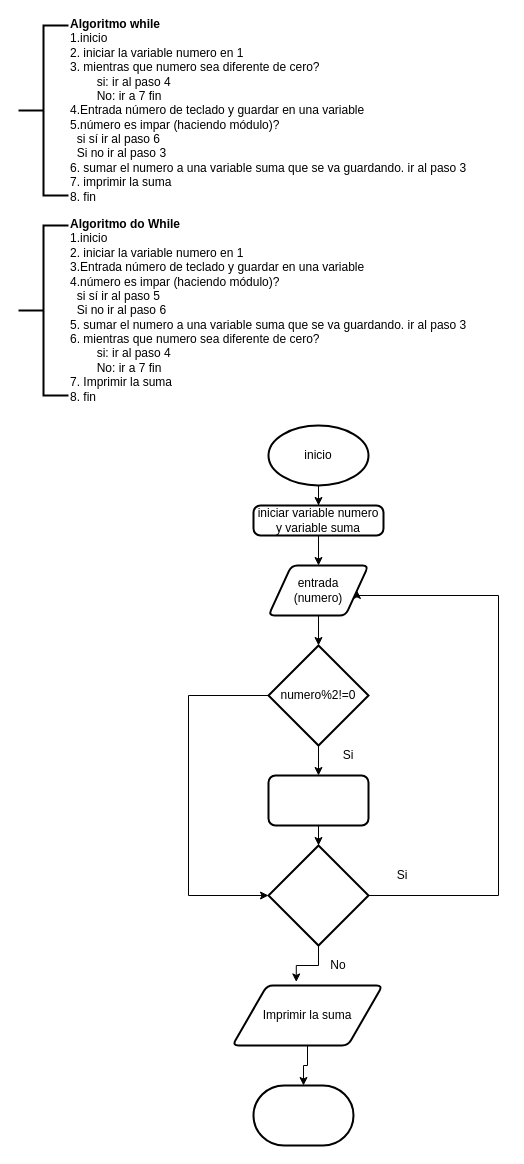
Image size: 524x1164. Some labels were removed from this diagram. The shapes that lost their labels are listed below. From the top down, each one's centre as x and y in pixels, then its label:
At point (318, 800): "suma+=numero".
At point (318, 895): "numero!=0".
At point (303, 1115): "fin".
